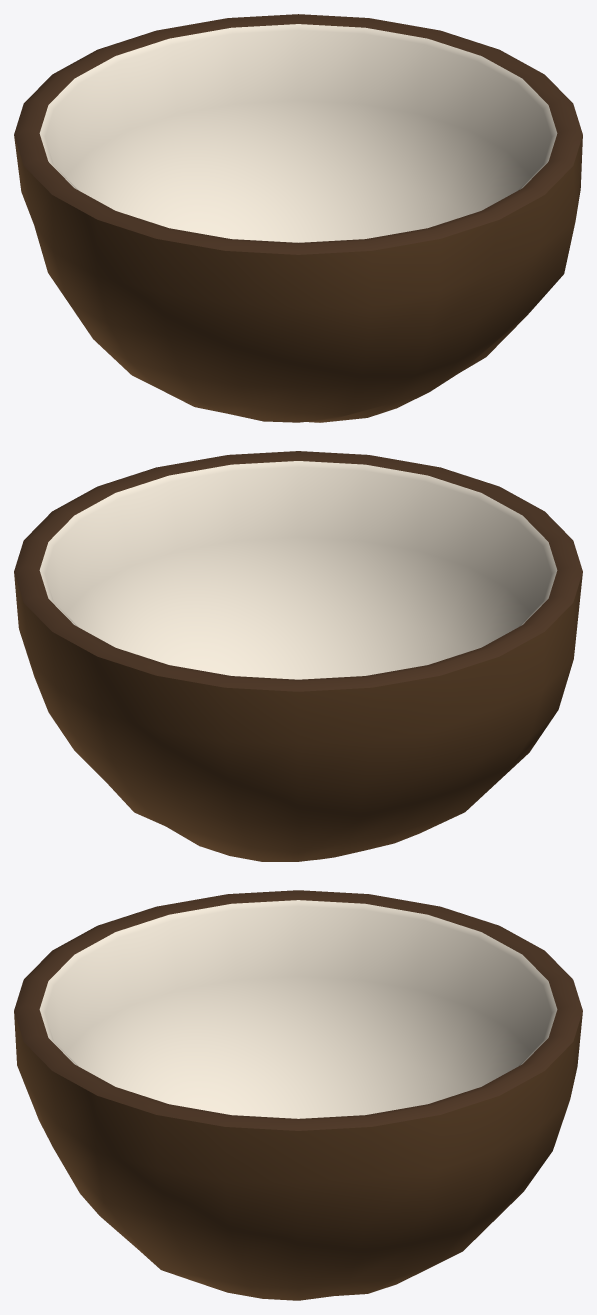
File: coconut_half.glb
3 views of the same model, one above another, from view 1: azimuth 30°, elevation 25°; view 2: azimuth 150°, elevation 25°; view 3: azimuth 270°, elevation 25° (orthographic).
Parts seen in each view (by area): view 1: Shell; view 2: Shell; view 3: Shell.
Boxes of the visible parts, x1,y1,x2,y2 form: Shell: (14,14,582,422); Shell: (14,451,582,861); Shell: (14,890,582,1300).
Size of the model in its own units: 0.08 by 0.0403 by 0.08.
